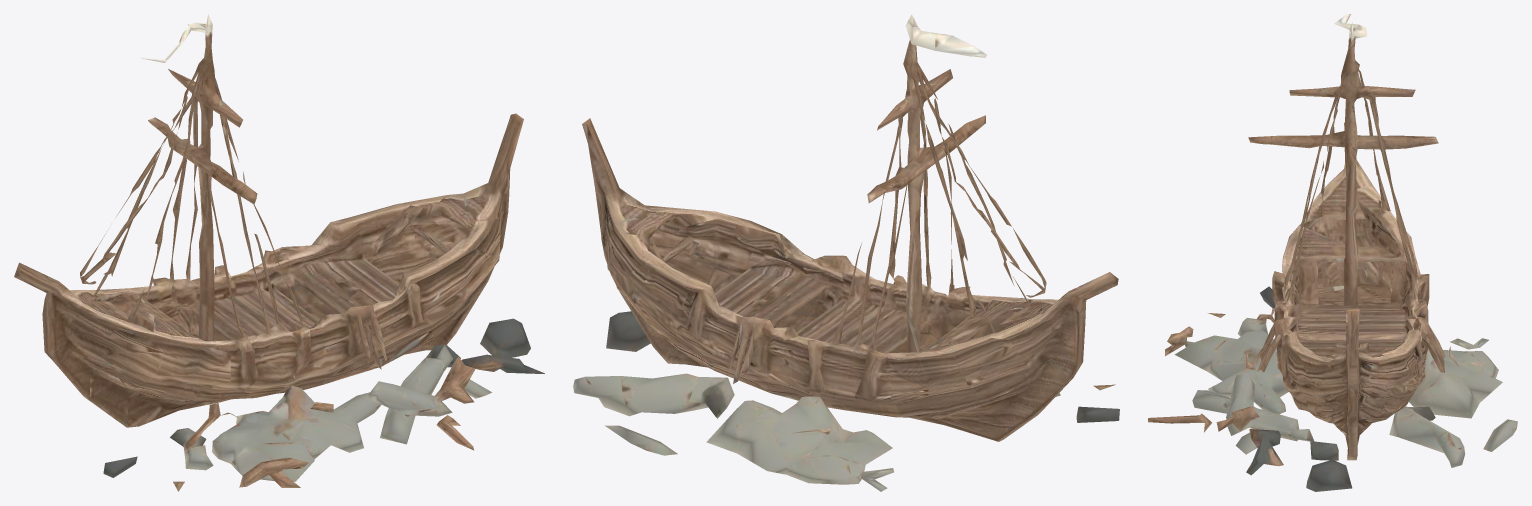
File: shipwreck.glb
The picture shows the model from 3 angles, left to right: view 1: azimuth 30°, elevation 25°; view 2: azimuth 150°, elevation 25°; view 3: azimuth 270°, elevation 25°; orthographic projection. The views are drawn at different scales.
Parts seen in each view (by area): view 1: 0; view 2: 0; view 3: 0.
Part boxes in pixels (<box>): 0: <box>14,14,544,491</box>; 0: <box>573,14,1119,491</box>; 0: <box>1148,14,1517,491</box>.
Size of the model in its own units: 1.9 by 1.4 by 1.37.
1 material, 1 textured.
